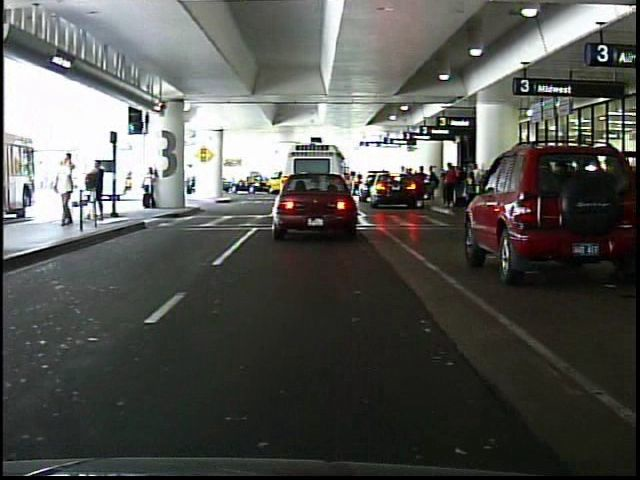person: (52, 150, 80, 232), (88, 157, 108, 223), (145, 165, 164, 210), (442, 161, 458, 209), (187, 163, 205, 203)
